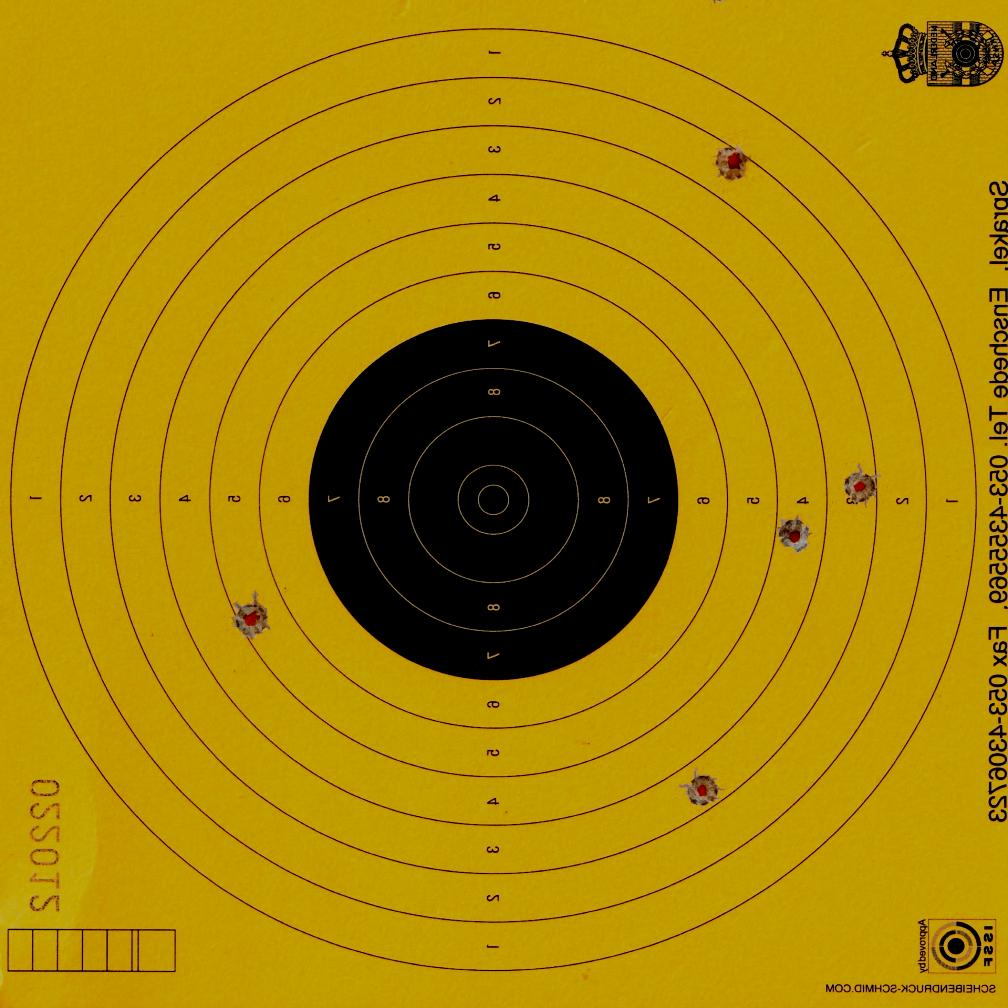2: (715, 146, 758, 182)
3: (675, 771, 724, 812), (840, 464, 882, 506)
4: (775, 518, 811, 553)
5: (234, 598, 269, 640)
Target: (5, 27, 979, 976)
black_contour: (306, 319, 679, 680)
